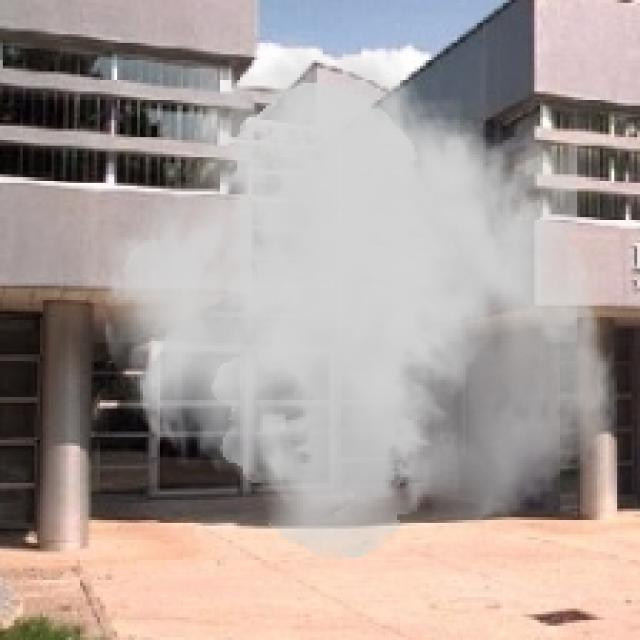Smoke: (97, 28, 623, 560)
